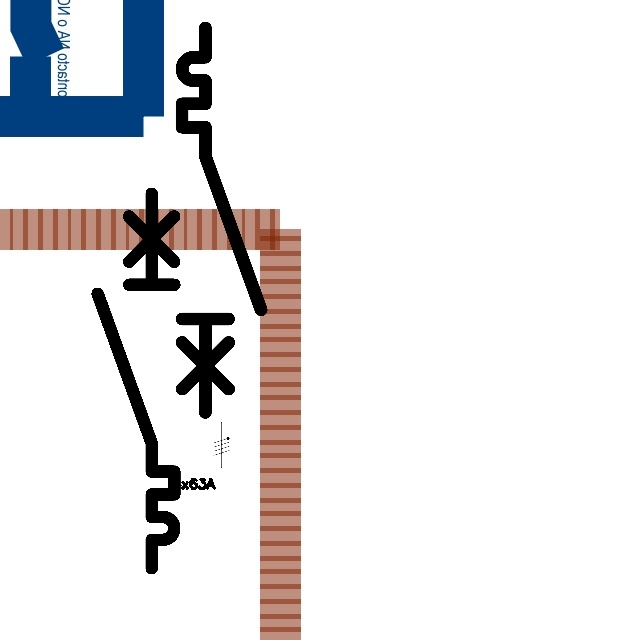interruptor_termomagnetico: (172, 18, 271, 423), (88, 184, 184, 578)
